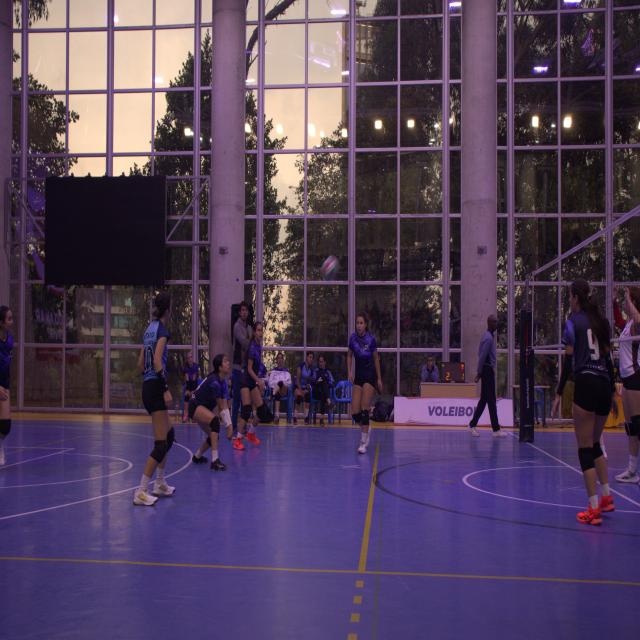volleyball: (322, 256, 339, 280)
